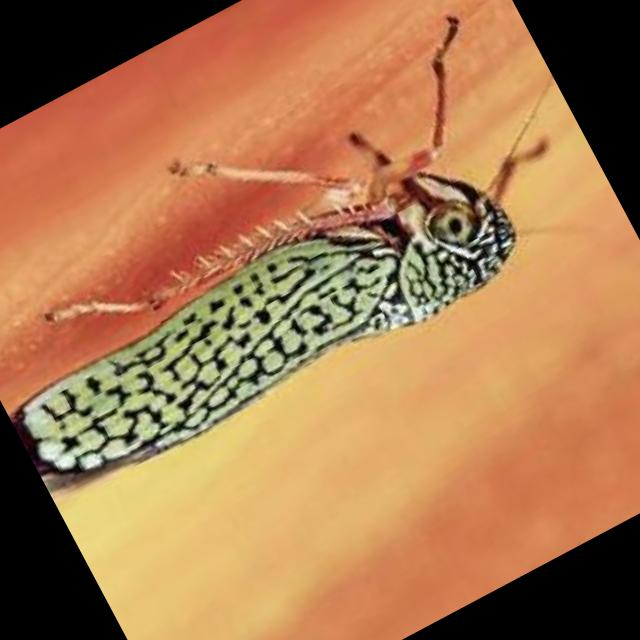green-leafhopper: (0, 105, 549, 526)
